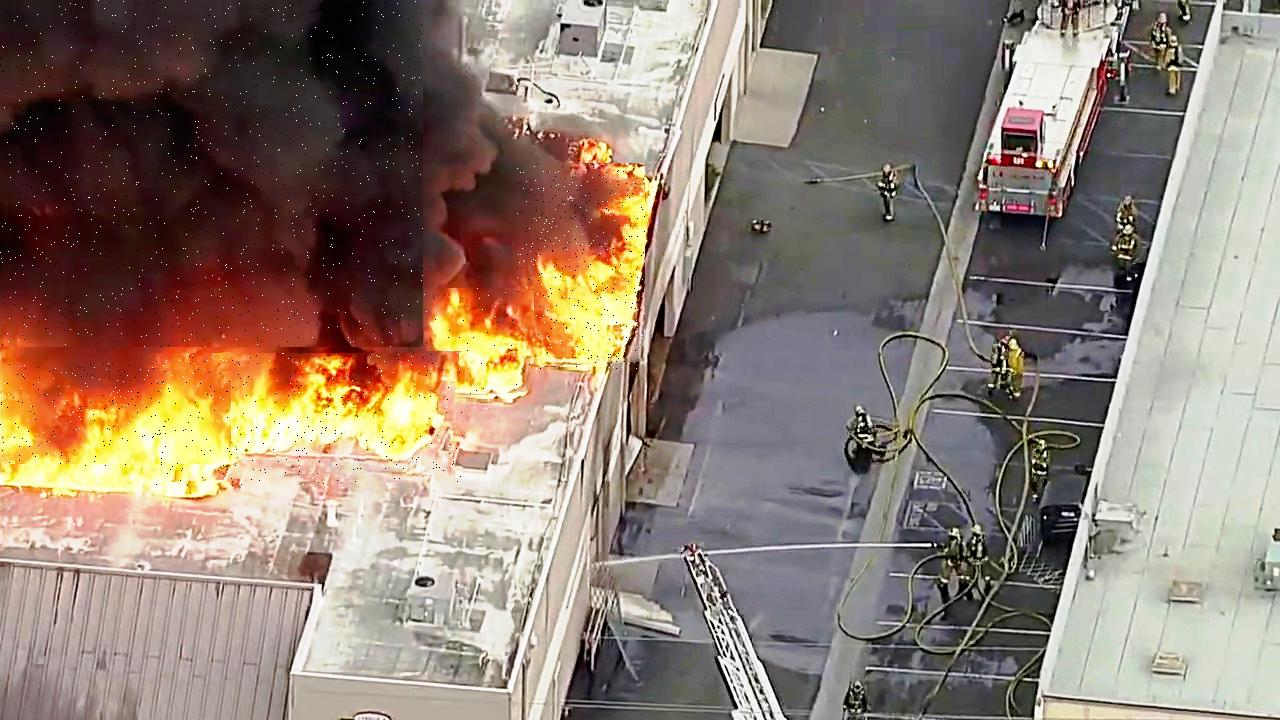fire: (144, 354, 464, 487), (517, 164, 645, 370), (0, 364, 231, 467), (424, 289, 535, 402)
smoke: (0, 0, 423, 347)
